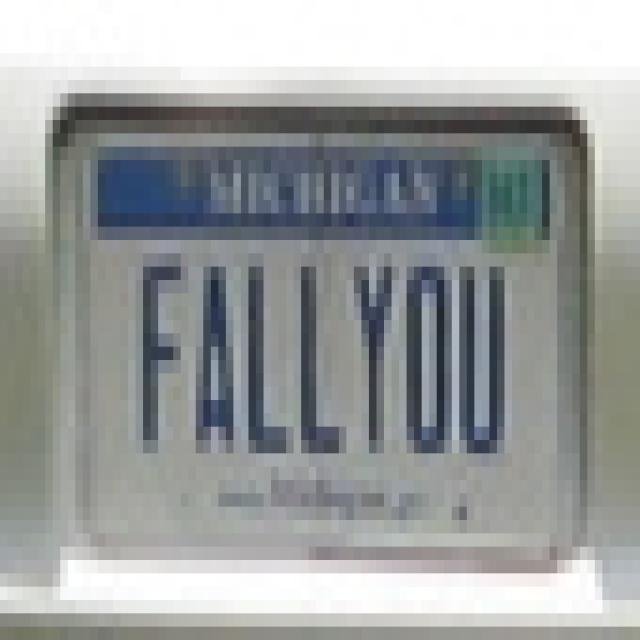0: (400, 248, 456, 484)
A: (190, 240, 239, 465)
F: (131, 246, 186, 468)
L: (290, 229, 349, 465), (242, 246, 298, 470)
U: (452, 240, 512, 472)
Y: (344, 248, 397, 460)
